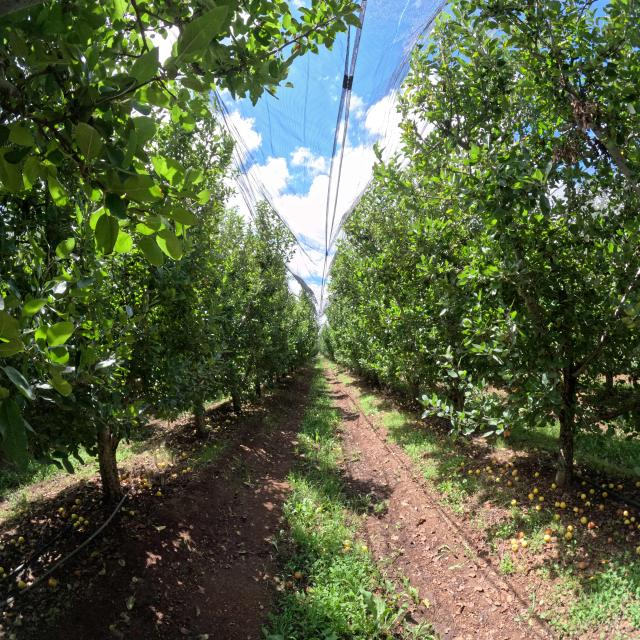-FireBlight-: (568, 93, 597, 134), (553, 124, 582, 163), (504, 332, 511, 342)
